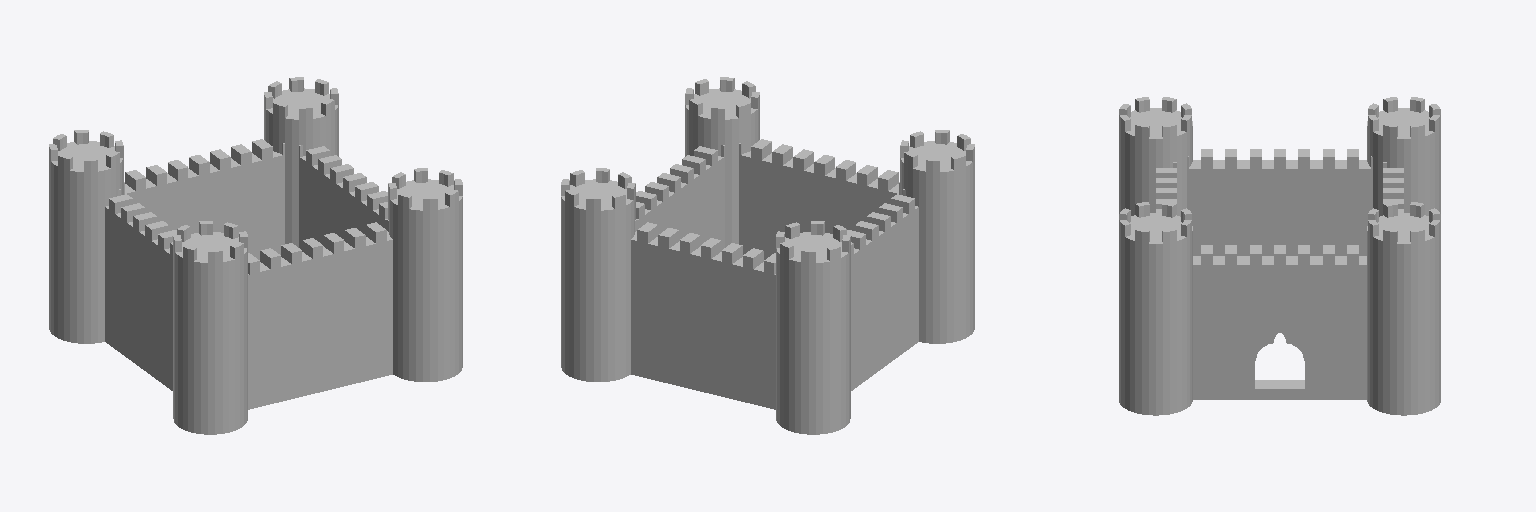
The model's file is castle.obj.
3 renders of one model, left to right at view 1: azimuth 30°, elevation 25°; view 2: azimuth 150°, elevation 25°; view 3: azimuth 270°, elevation 25°, orthographic.
Parts seen in each view (by area): view 1: castle_Cube.000, castle.004_Cube.004, castle.001_Cube.001, castle.003_Cube.003, castle.002_Cube.002; view 2: castle_Cube.000, castle.003_Cube.003, castle.002_Cube.002, castle.004_Cube.004, castle.001_Cube.001; view 3: castle_Cube.000, castle.002_Cube.002, castle.001_Cube.001, castle.004_Cube.004, castle.003_Cube.003.
Boxes of the visible parts, box(x1,y1,x2,y2) form: castle_Cube.000: box(105, 139, 392, 409); castle.004_Cube.004: box(173, 221, 247, 434); castle.001_Cube.001: box(388, 168, 462, 381); castle.003_Cube.003: box(49, 130, 123, 343); castle.002_Cube.002: box(264, 77, 338, 247); castle_Cube.000: box(631, 139, 918, 409); castle.003_Cube.003: box(776, 221, 850, 434); castle.002_Cube.002: box(561, 168, 635, 381); castle.004_Cube.004: box(900, 130, 974, 343); castle.001_Cube.001: box(685, 77, 759, 247); castle_Cube.000: box(1156, 149, 1403, 399); castle.002_Cube.002: box(1367, 202, 1440, 415); castle.001_Cube.001: box(1119, 202, 1192, 415); castle.004_Cube.004: box(1119, 97, 1192, 216); castle.003_Cube.003: box(1367, 97, 1440, 216).
Bounding box in the file's own units: 2.6 × 1.62 × 2.6.